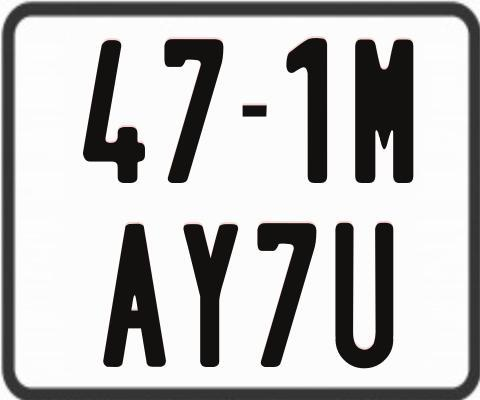1: (286, 35, 328, 186)
4: (83, 37, 149, 186)
7: (256, 223, 317, 371), (163, 38, 223, 188)
A: (102, 224, 168, 372)
M: (355, 37, 415, 187)
U: (335, 221, 398, 370)
Y: (182, 224, 236, 369)
